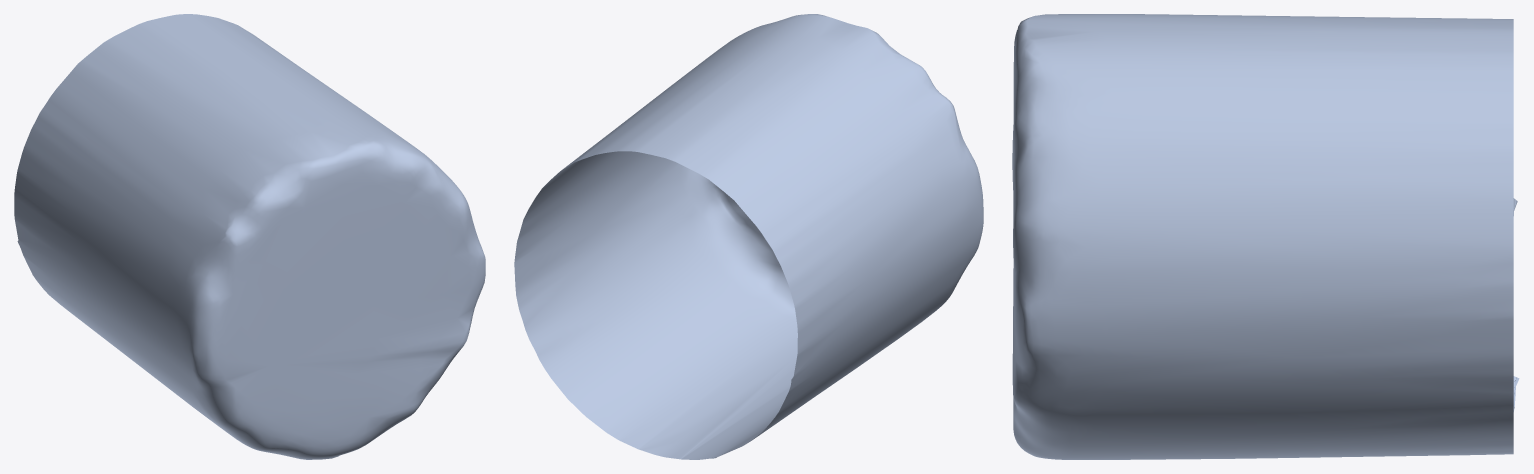
File: ivc.glb
3 views of the same model, side by side, from view 1: azimuth 30°, elevation 25°; view 2: azimuth 150°, elevation 25°; view 3: azimuth 270°, elevation 25° (orthographic). The views are drawn at different scales.
Visible parts, largest first — view 1: structure; view 2: structure; view 3: structure.
Boxes of the visible parts, x1,y1,x2,y2 form: structure: (14, 14, 485, 459); structure: (514, 14, 983, 459); structure: (1012, 14, 1519, 459).
Bounding box in the file's own units: 22.86 × 22.96 × 25.83.
